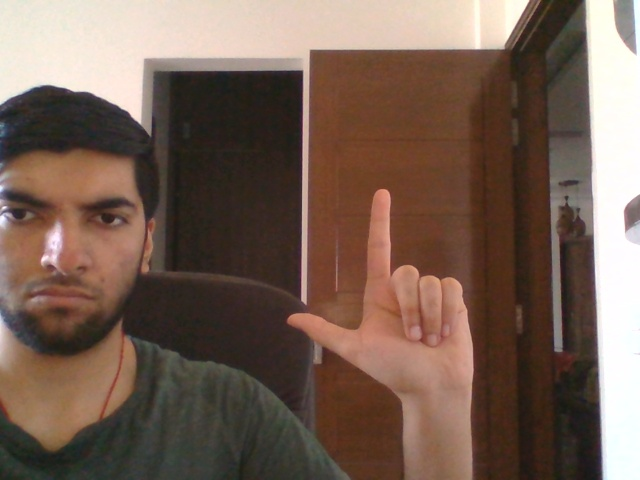LetterL: (285, 187, 475, 404)
